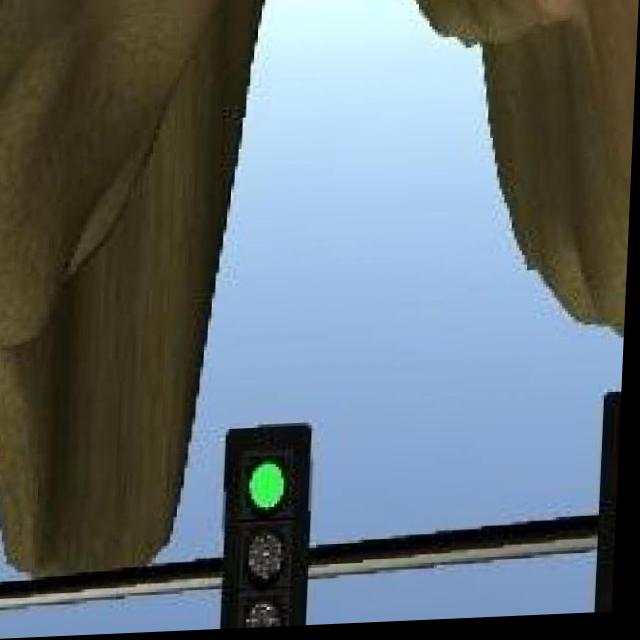green light: (230, 425, 317, 628)
